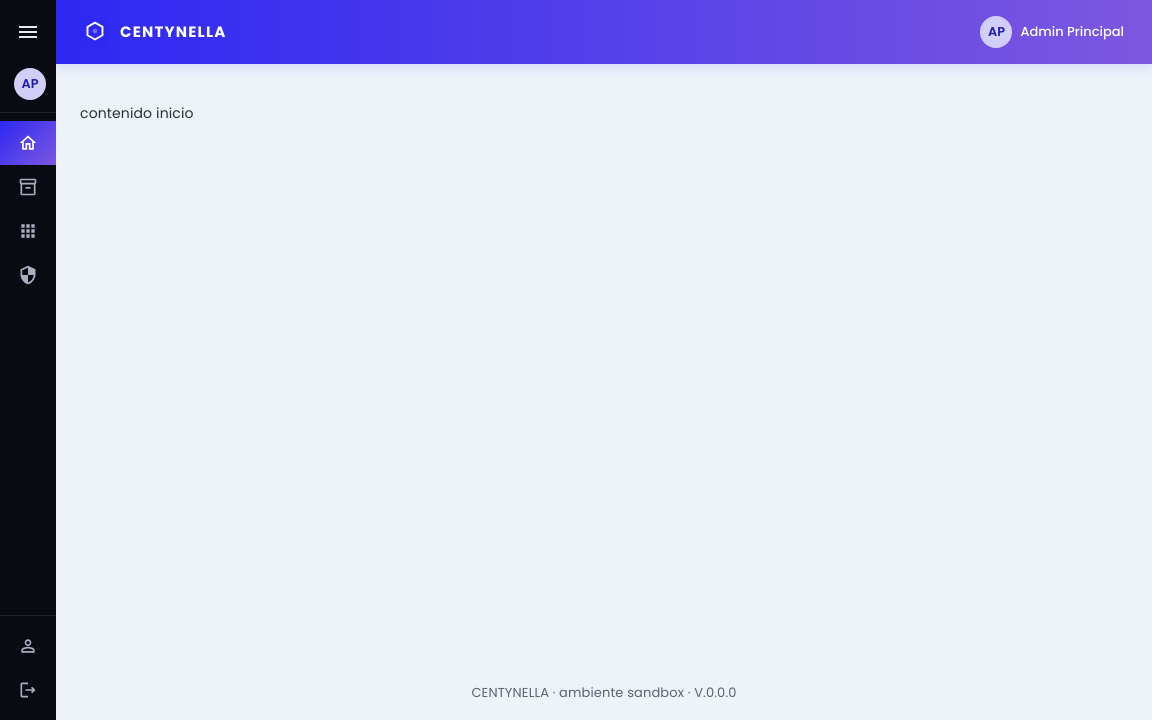
<ShellLayout /> — menú lateral (riel + extendido) › se colapsa con la X
Click the button named "Abrir menú" at (28,32), box [8, 12, 48, 52]
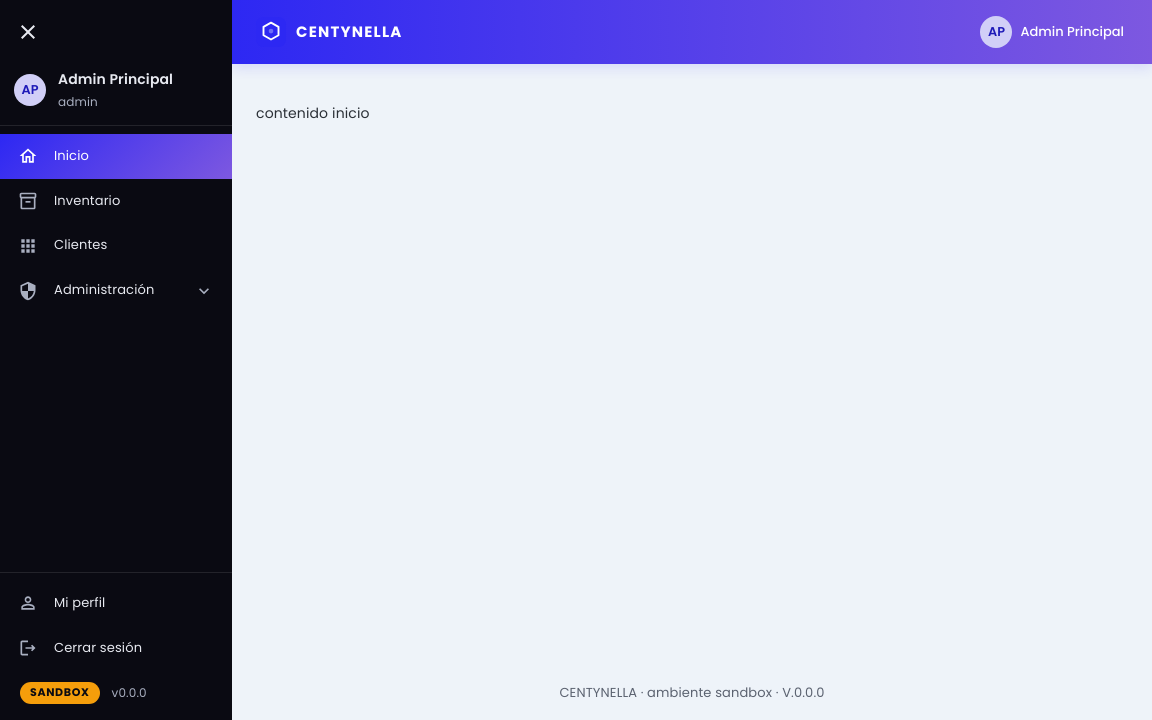
Click the button named "Cerrar menú" at (28,32), box [8, 12, 48, 52]
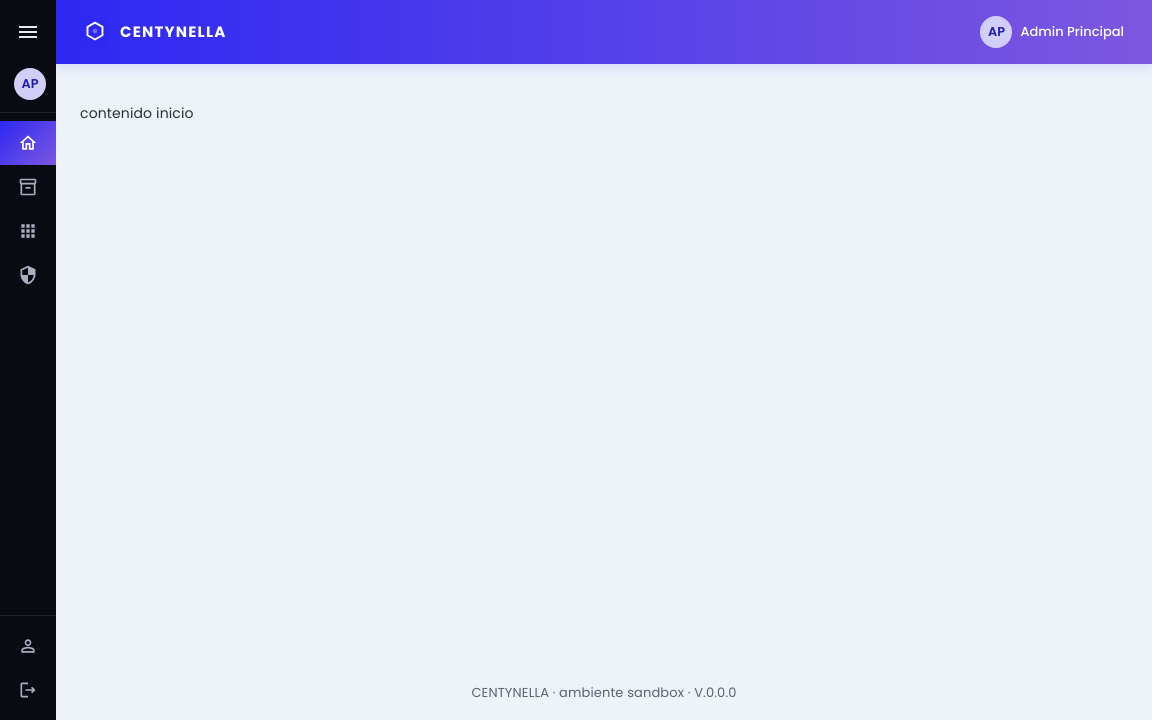
expect the button named "Abrir menú" is collapsed: met, box [8, 12, 48, 52]
